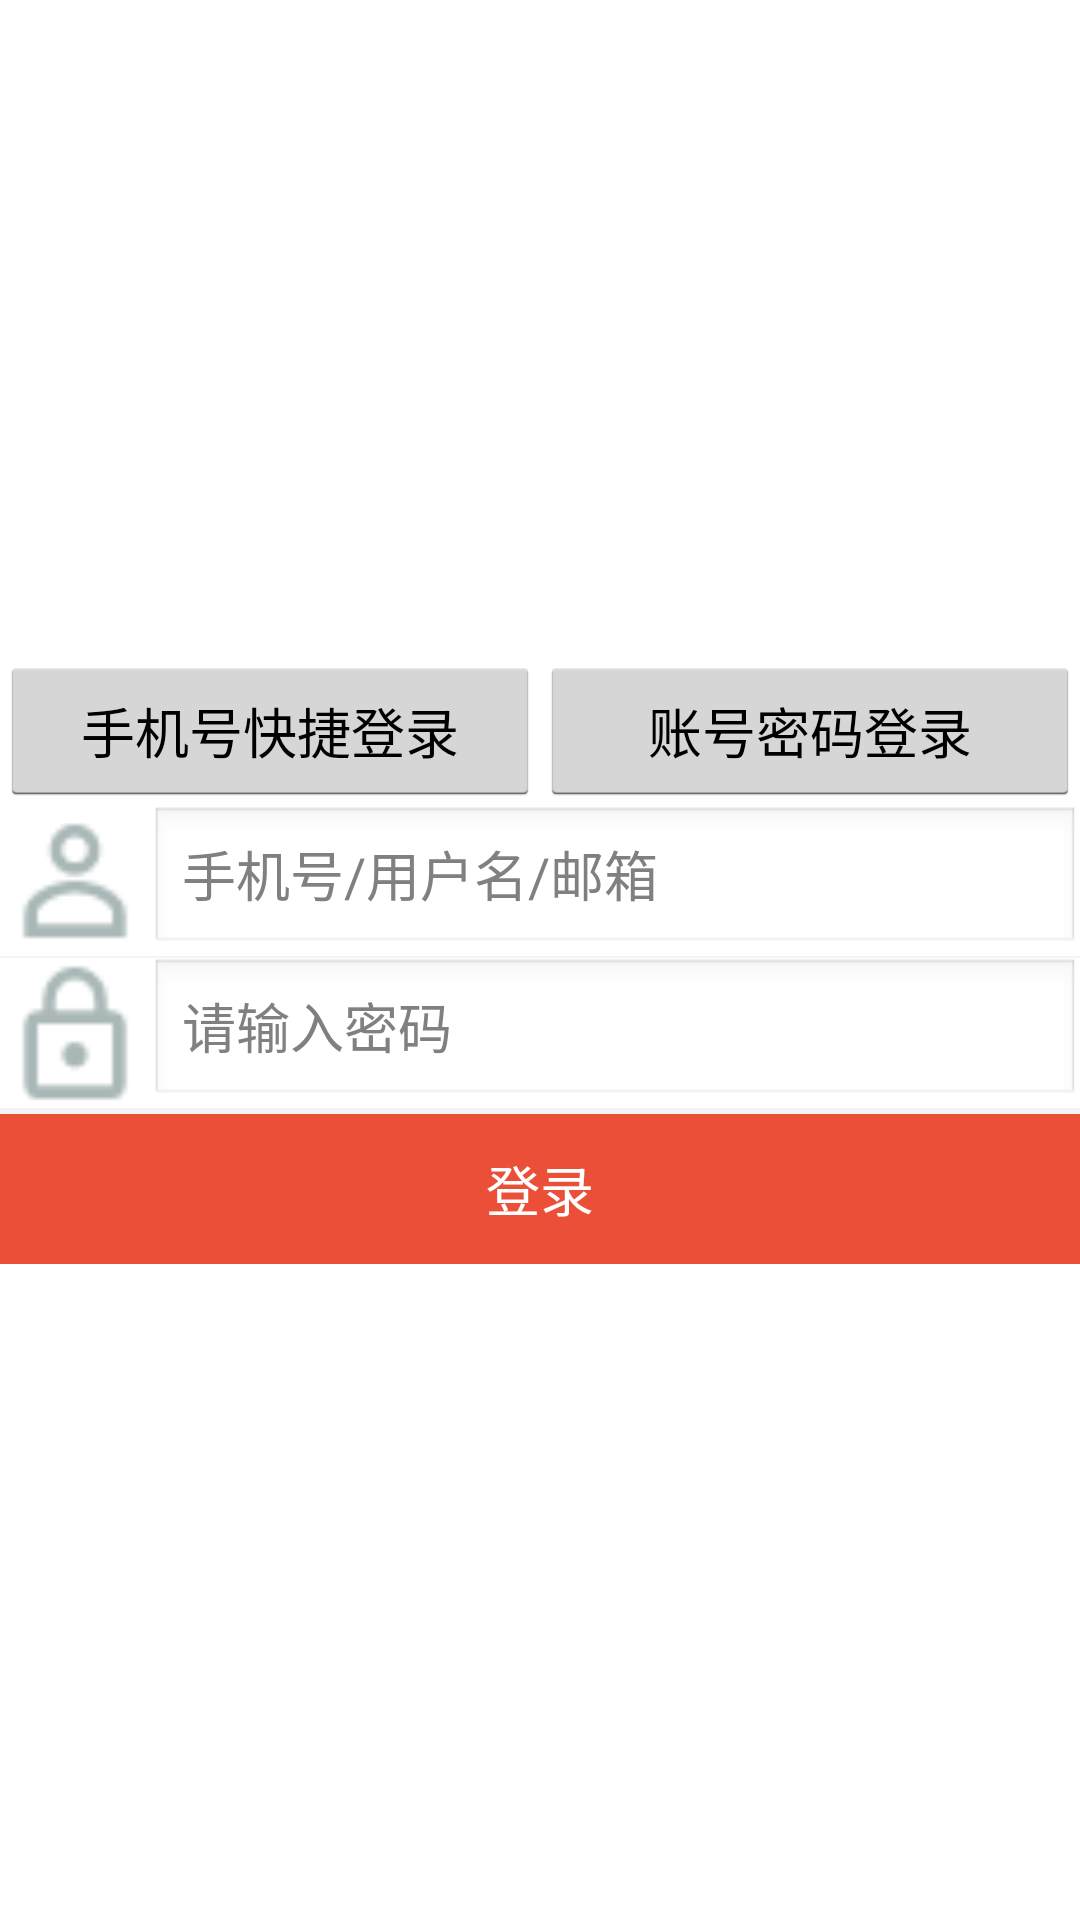

Icon click points for this 1080px×1920px phone screenshot, format (x=x, y=y):
password: (x=75, y=1033)
